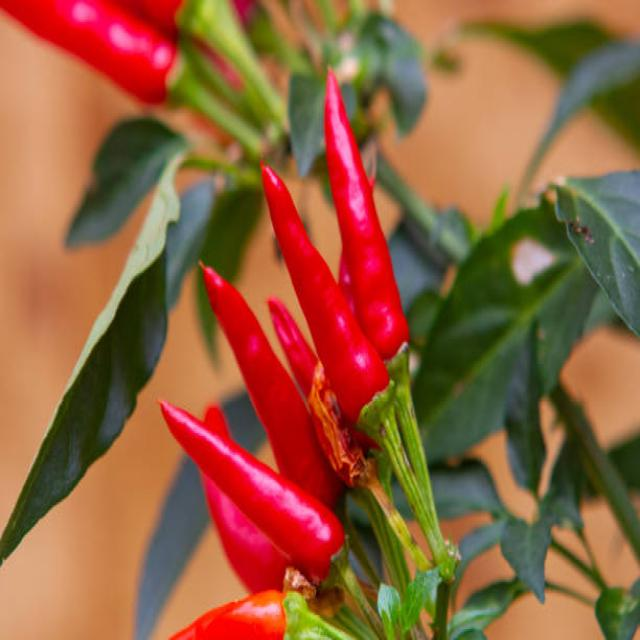Ripe: (205, 268, 343, 505), (262, 166, 388, 420), (161, 402, 343, 577), (325, 71, 408, 359)
